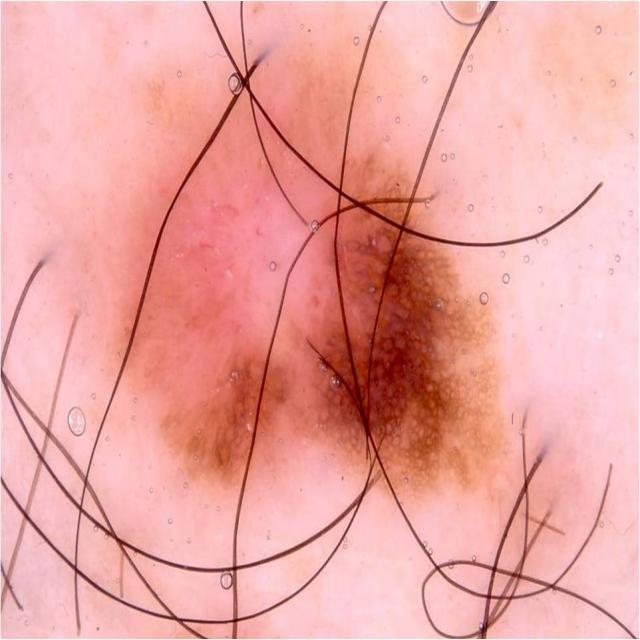Benign: (116, 66, 500, 509)
